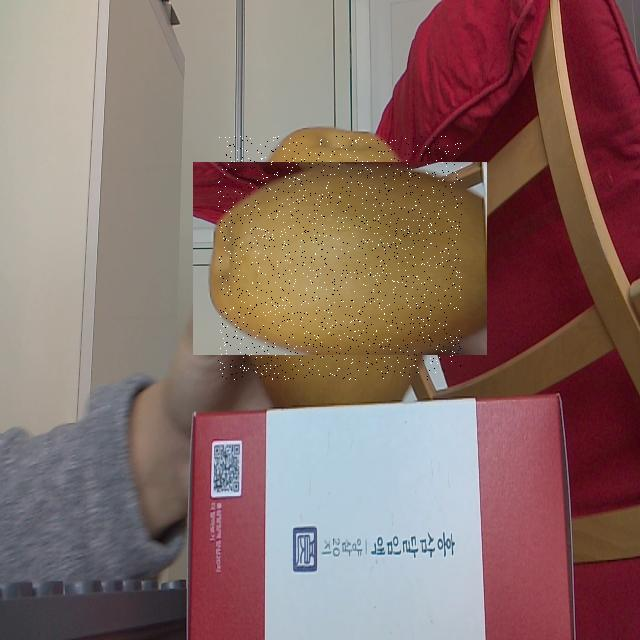pear: (218, 136, 462, 380)
